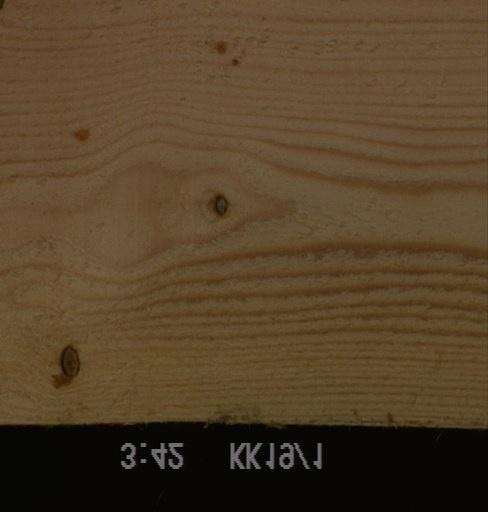dry_knot: (58, 344, 80, 378), (211, 193, 229, 217)
